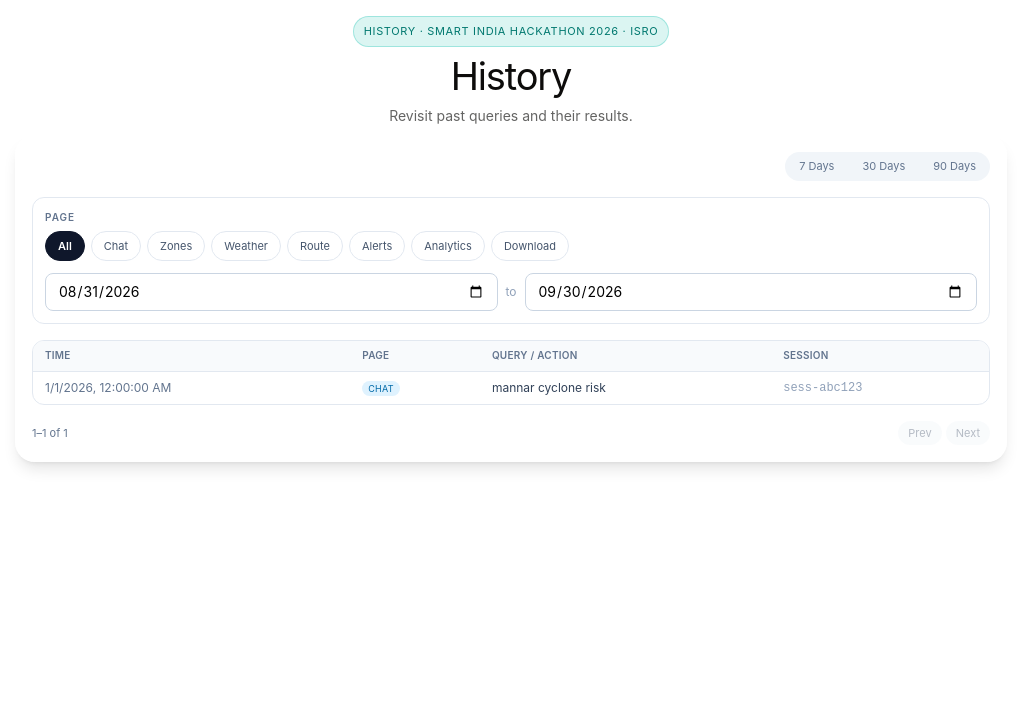
Test: HistoryPage — row detail › clicking a row fetches and shows its request/response detail, toggling closed on a second click
This screenshot has width=1023, height=707.
Click the cell "mannar cyclone risk" at (549, 387), box [480,371,771,404]
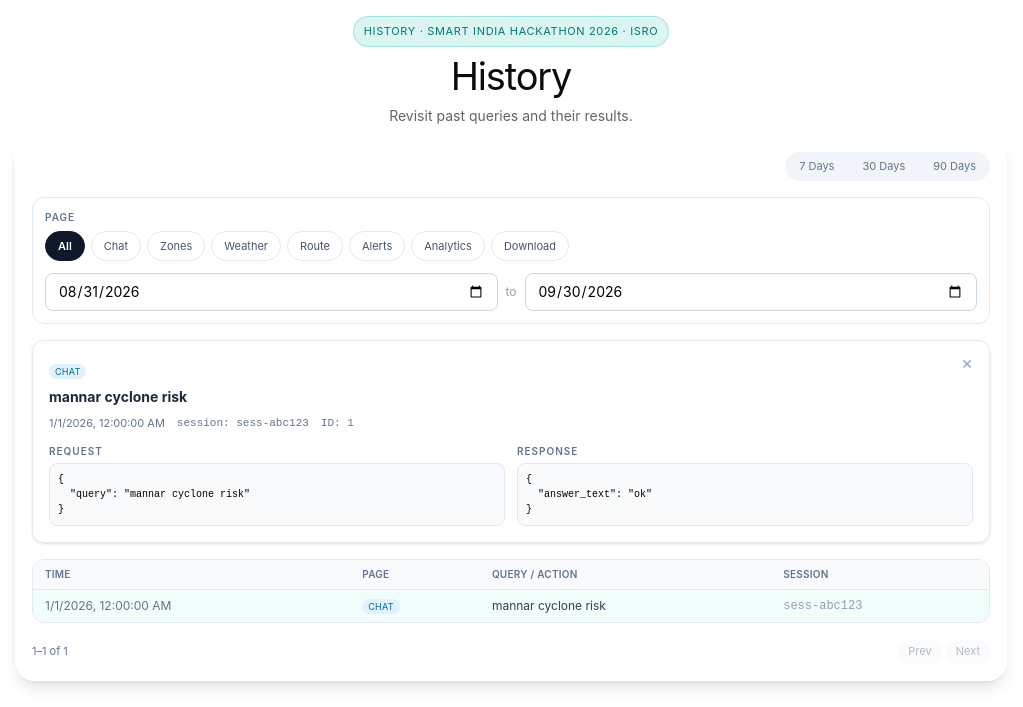
Check: the text "session: sess-abc123" is shown, box [177,415,309,432]
Click the cell "mannar cyclone risk" at (549, 606), box [480,590,771,622]
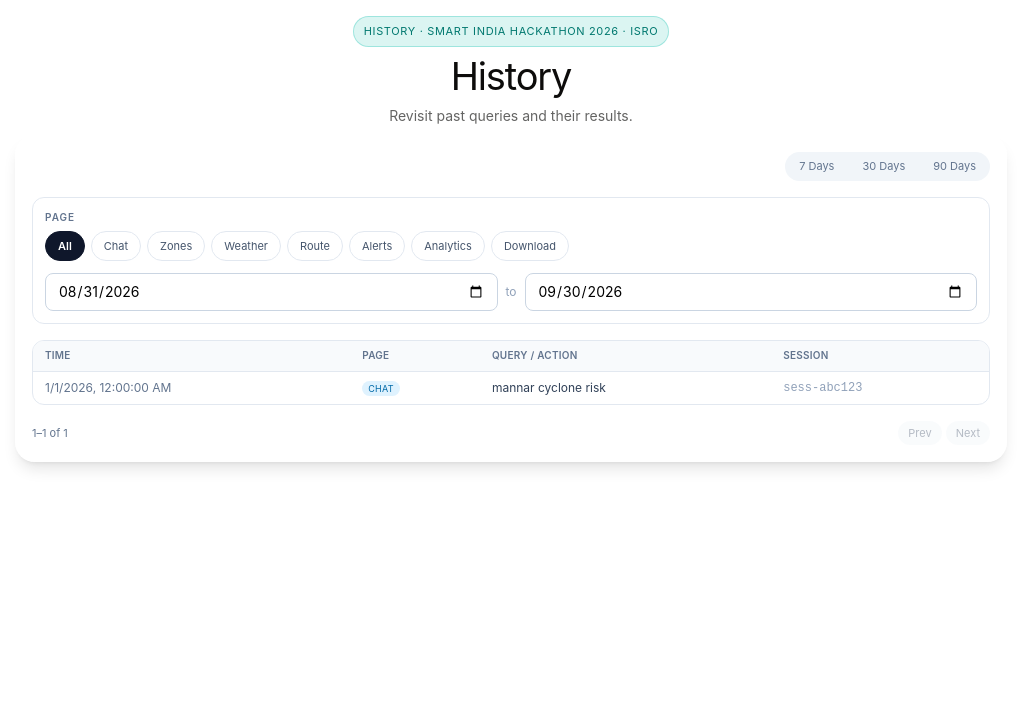
Check: the text "session: sess-abc123" is gone
